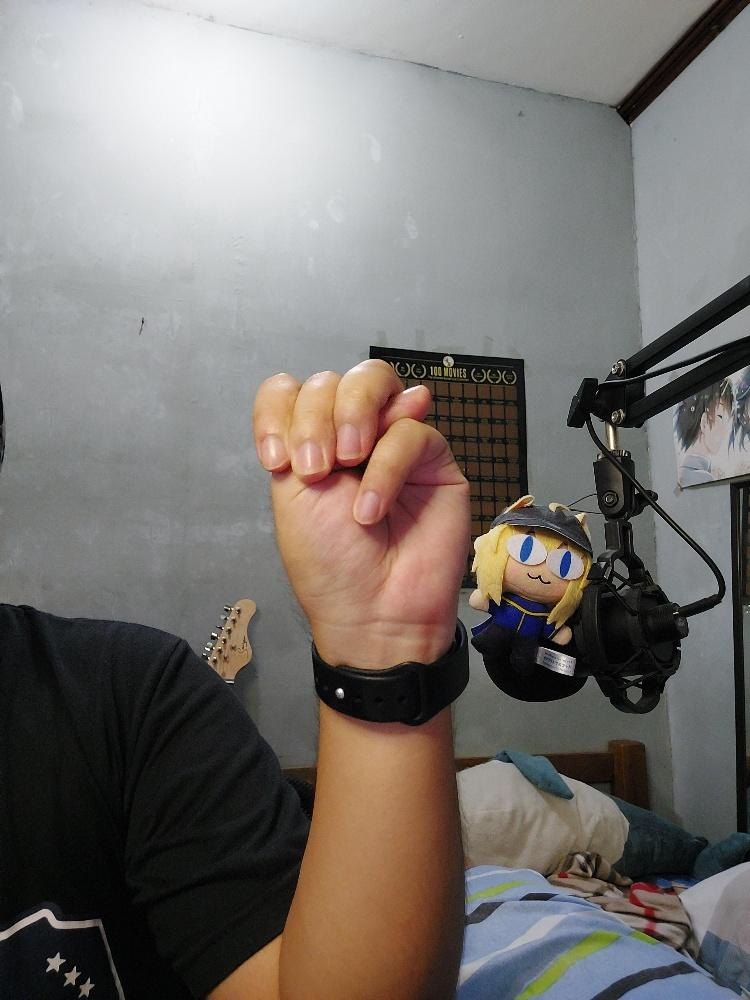m: (254, 360, 472, 614)
